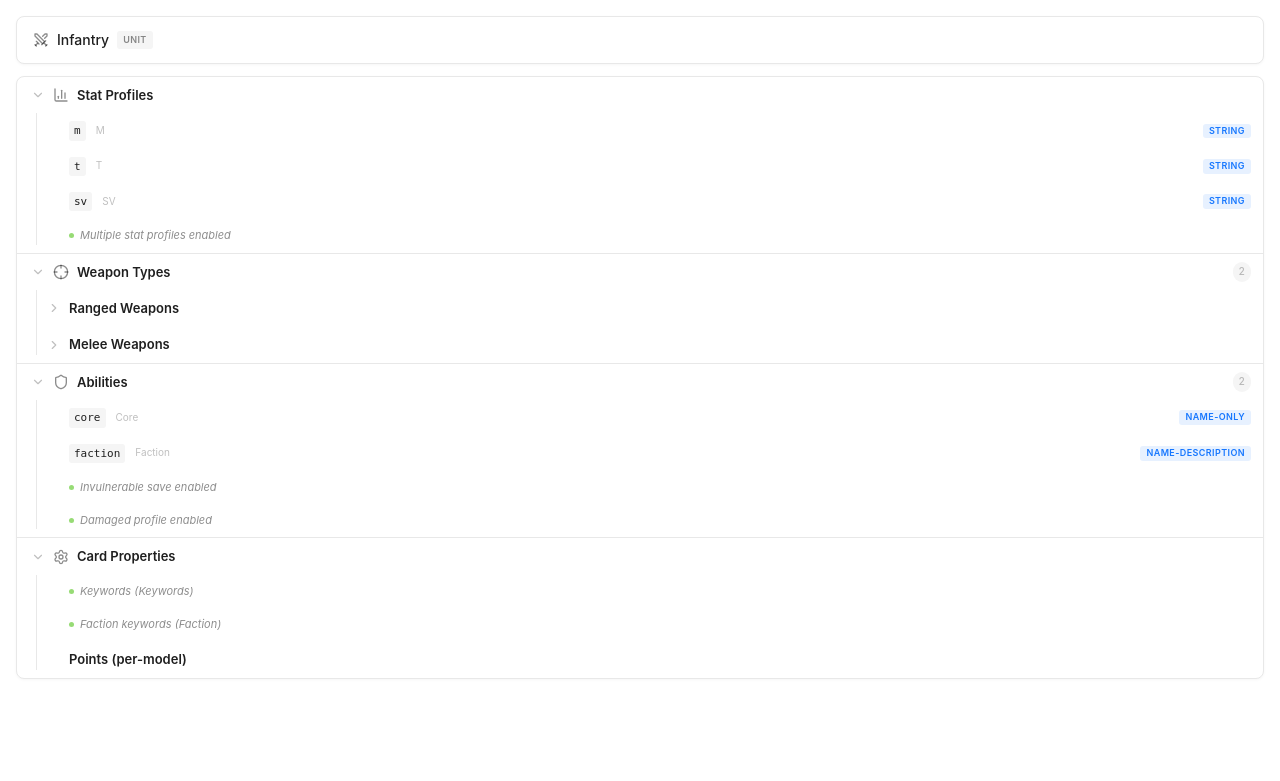
Scenario: SchemaTreeView › unit card type tree › expands weapon type to show columns
Weapon types are collapsed by default, click to expand
Click the button "Ranged Weapons" at (124, 308), box [17, 290, 1263, 326]
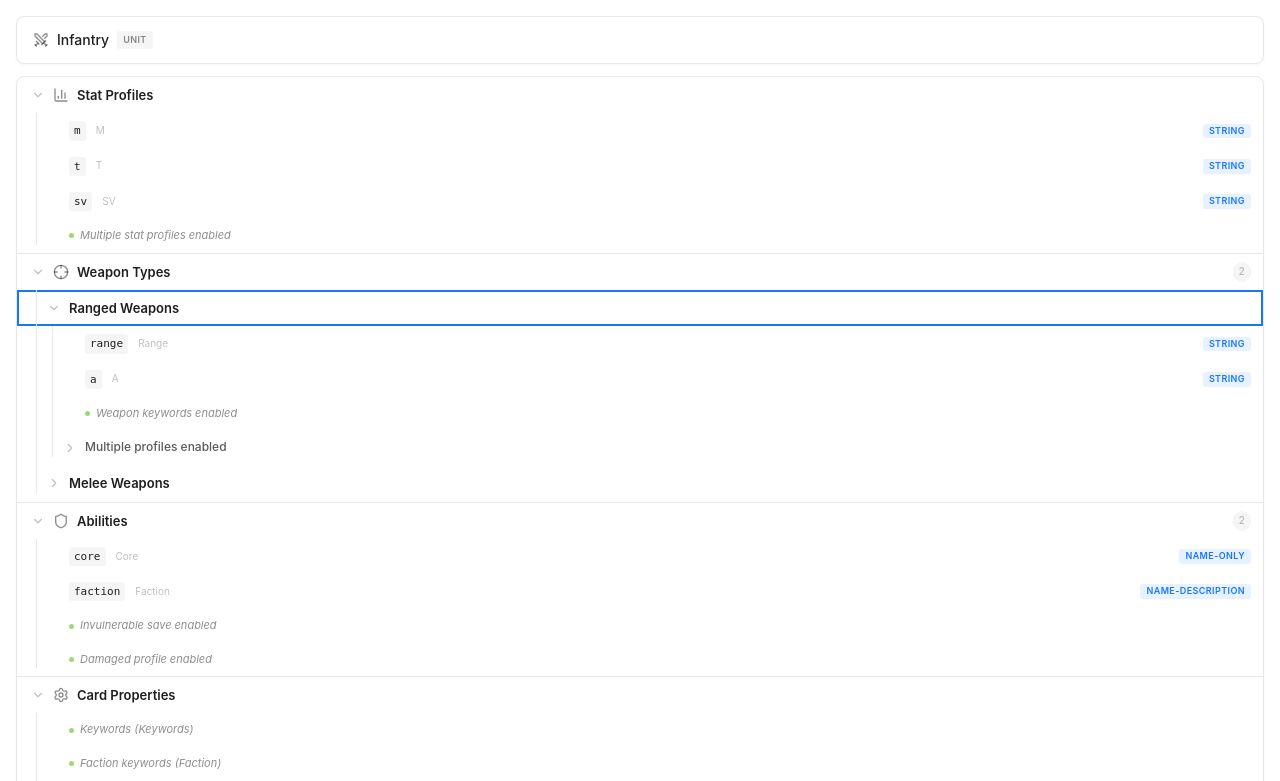
Expected: the text "range" is shown, [85, 334, 128, 354]
Expected: the text "Weapon keywords enabled" is shown, [85, 405, 237, 422]
Expected: the text "Multiple profiles enabled" is shown, [85, 438, 227, 457]
